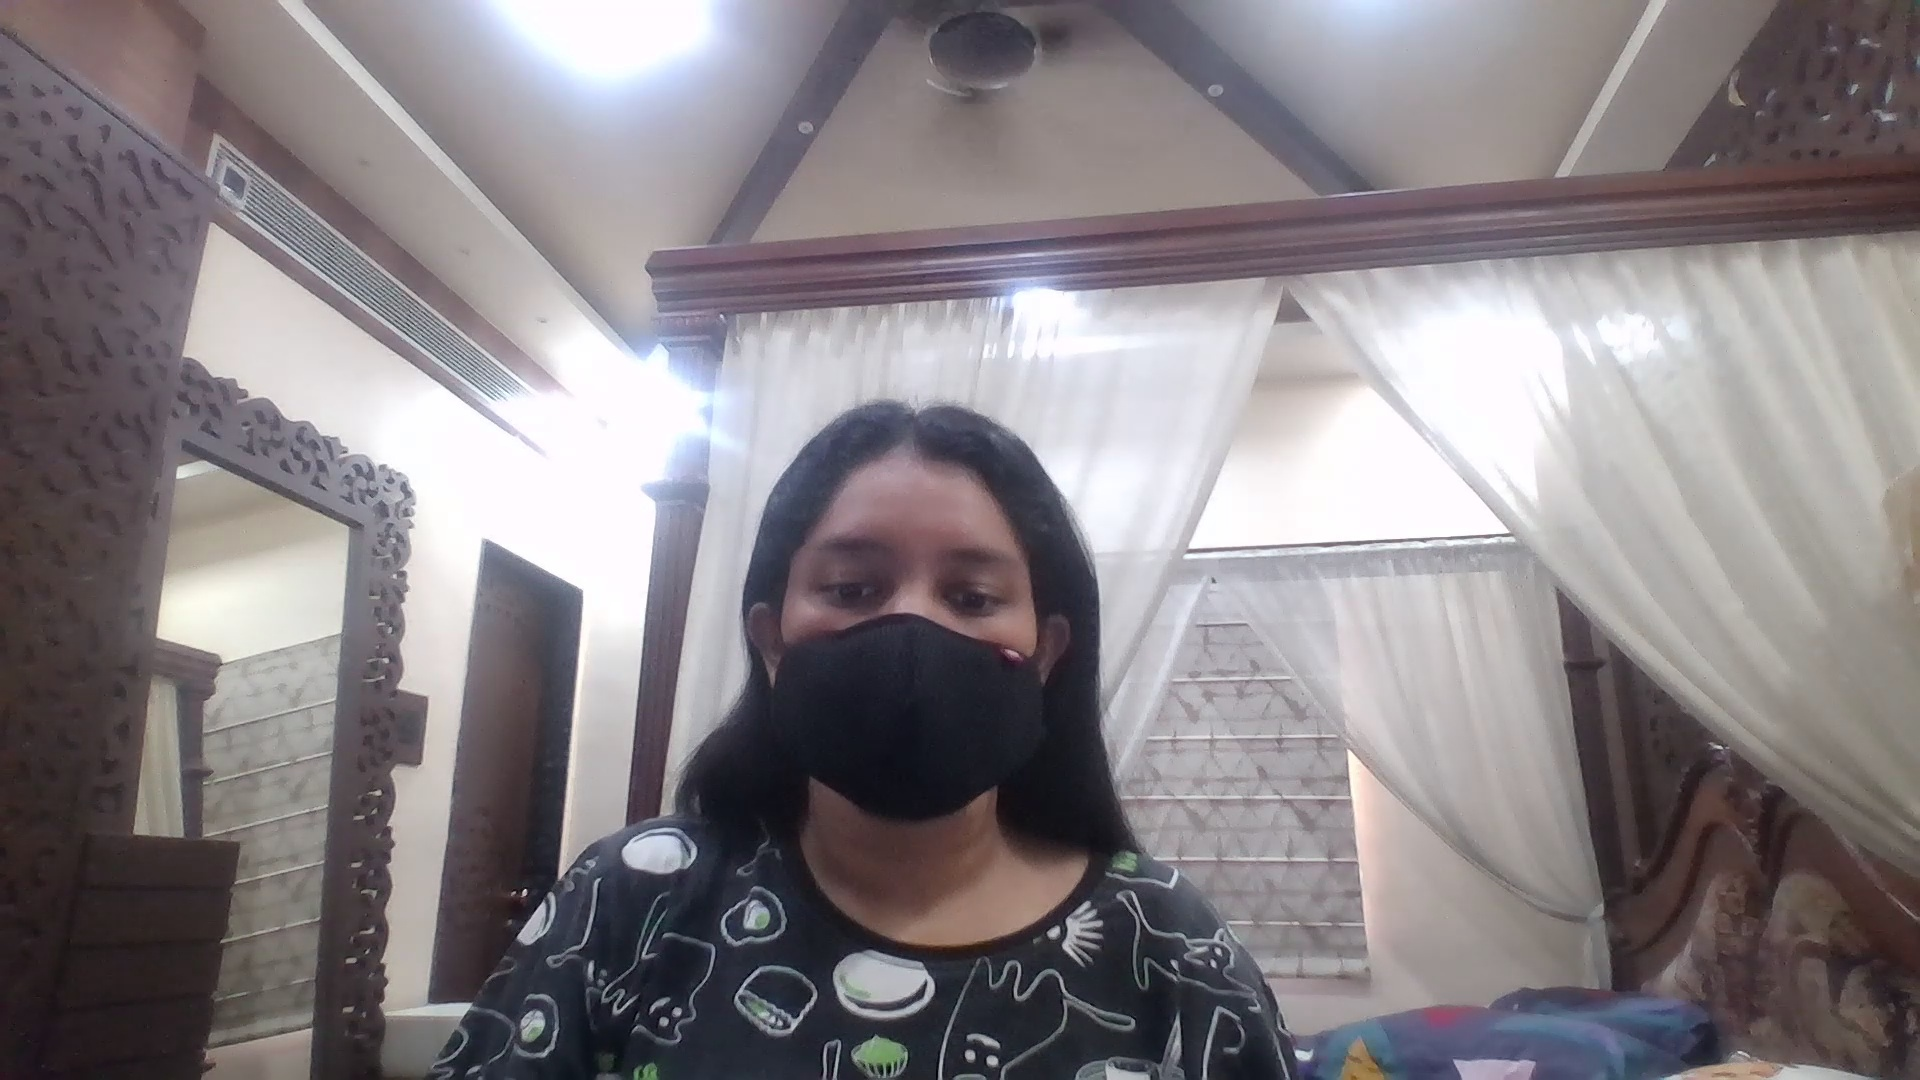Mask: (765, 613, 1057, 827)
